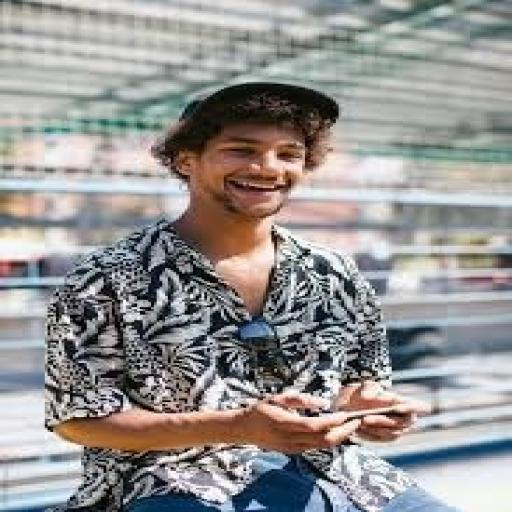texting: (34, 78, 490, 510)
